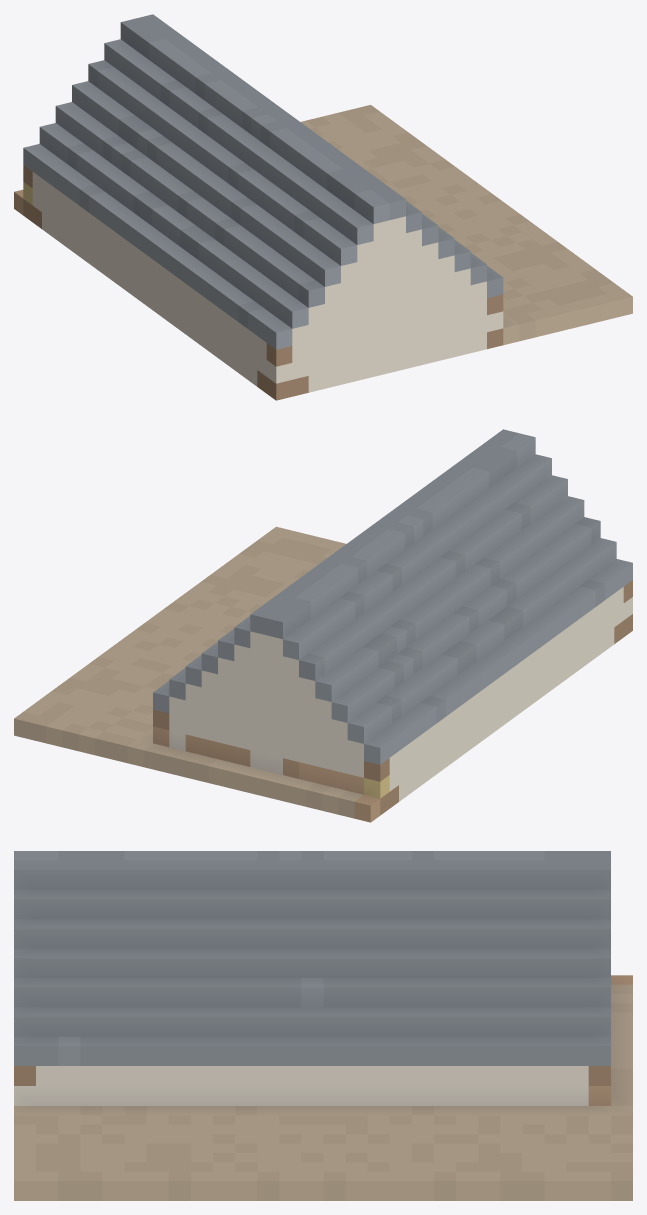
The model's file is theatre.lite.glb.
The picture shows the model from 3 angles, top to bottom: view 1: azimuth 30°, elevation 25°; view 2: azimuth 150°, elevation 25°; view 3: azimuth 270°, elevation 25°; orthographic projection. The views are drawn at different scales.
Parts seen in each view (by area): view 1: theatre; view 2: theatre; view 3: theatre.
Part boxes in pixels (x1,y1,x2,y2): theatre: (14, 14, 632, 400); theatre: (14, 429, 632, 822); theatre: (14, 851, 632, 1200).
Bounding box in the file's own units: 11 × 5 × 14.
